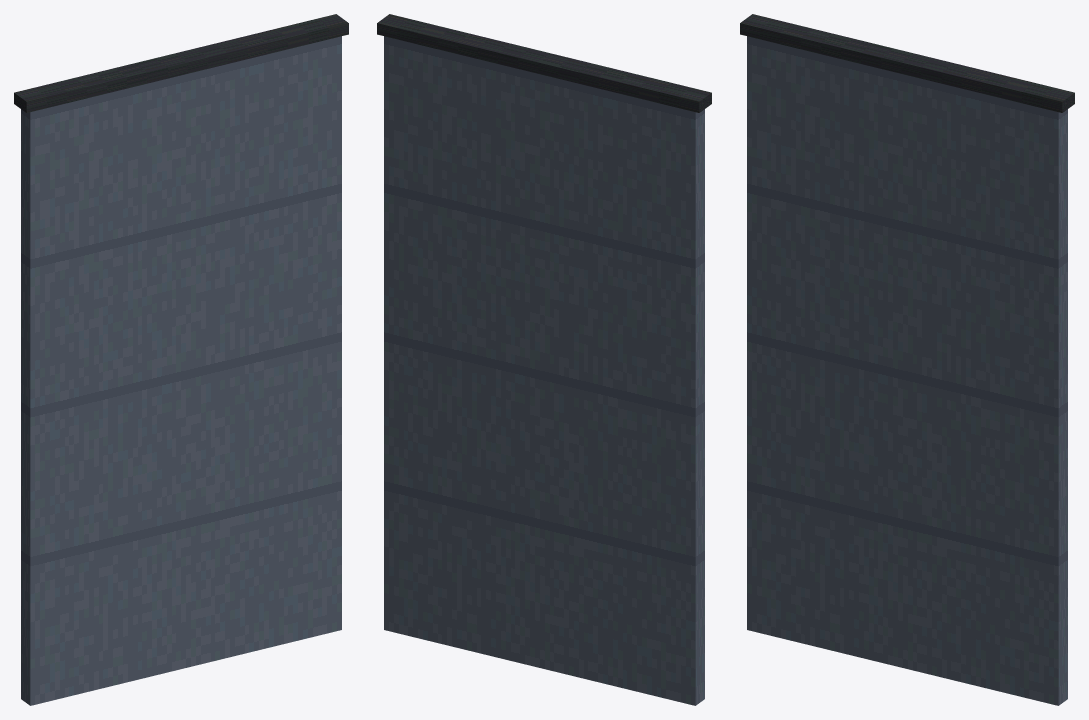
The model's file is Display_WallPanel_005_Normal.fbx.
3 views of the same model, side by side, from view 1: azimuth 30°, elevation 25°; view 2: azimuth 150°, elevation 25°; view 3: azimuth 330°, elevation 25° (orthographic).
Parts seen in each view (by area): view 1: Display_WallPanel_005.001; view 2: Display_WallPanel_005.001; view 3: Display_WallPanel_005.001.
Part boxes in pixels (x1,y1,x2,y2): Display_WallPanel_005.001: (14,14,348,705); Display_WallPanel_005.001: (377,14,711,705); Display_WallPanel_005.001: (740,14,1074,705).
Bounding box in the file's own units: 119 × 214 × 8.
